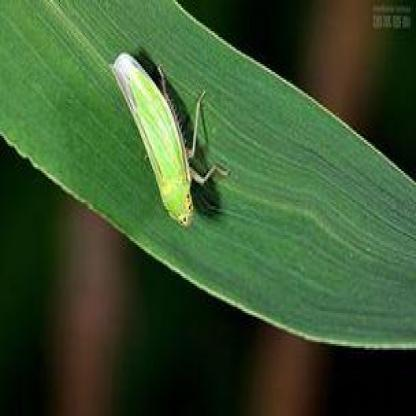green-leafhopper: (110, 47, 228, 230)
